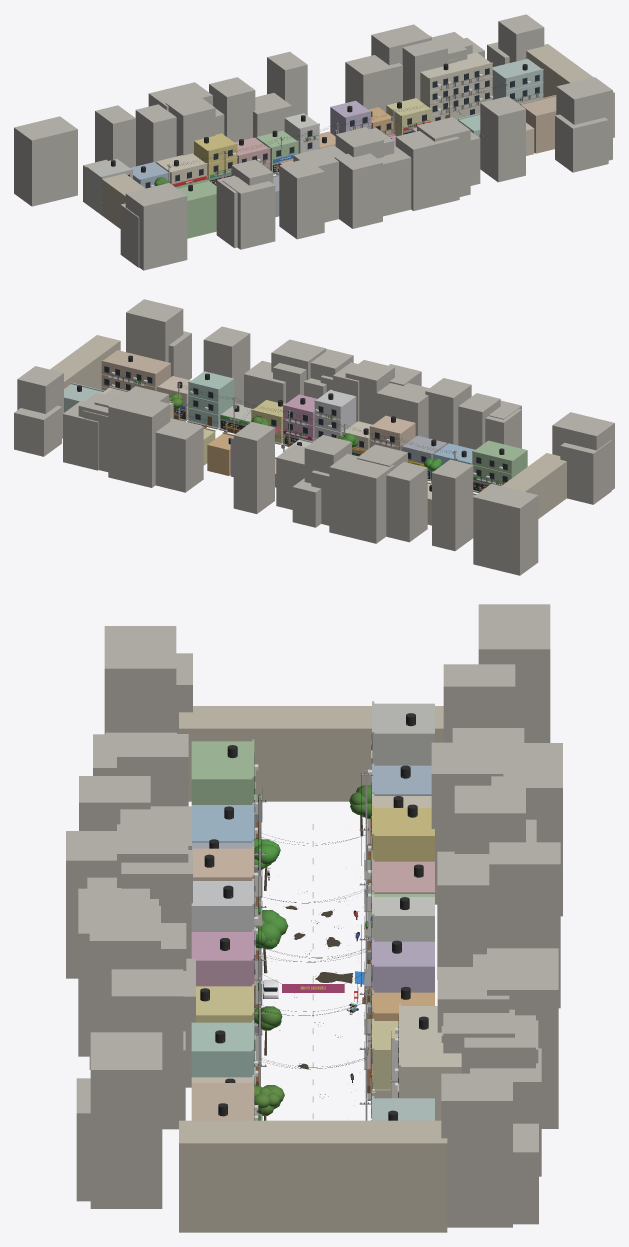
File: street.glb
The picture shows the model from 3 angles, top to bottom: view 1: azimuth 30°, elevation 25°; view 2: azimuth 150°, elevation 25°; view 3: azimuth 270°, elevation 25°; orthographic projection. The views are drawn at different scales.
Visible parts, largest first — view 1: Backdrop, Street_6, Street_1, Street_7, Street_2, Street_3, Street_5, Street_4, Street_0; view 2: Backdrop, Street_5, Street_4, Street_6, Street_7, Street_3, Street_1, Street_2; view 3: Backdrop, Street_4, Street_6, Street_2, Street_1, Street_5, Street_3, Street_7, Street_0.
Part boxes in pixels (x1,y1,x2,y2): Backdrop: (14,14,614,270); Street_6: (420,52,535,155); Street_1: (130,153,222,238); Street_7: (492,58,556,153); Street_2: (194,133,281,217); Street_3: (256,113,319,174); Street_5: (368,72,473,136); Street_4: (319,100,395,148); Street_0: (86,159,132,215); Backdrop: (14,299,614,575); Street_5: (170,379,285,475); Street_4: (228,389,355,487); Street_6: (101,363,233,429); Street_7: (64,350,170,412); Street_3: (283,396,414,456); Street_1: (427,440,527,525); Street_2: (391,423,475,482); Backdrop: (66,604,562,1232); Street_4: (191,879,434,1051); Street_6: (191,1003,461,1120); Street_2: (191,796,434,940); Street_1: (191,732,434,867); Street_5: (196,984,434,1105); Street_3: (192,846,434,989); Street_7: (191,1081,434,1120); Street_0: (368,701,434,782).
Size of the model in its own units: 131 by 17.91 by 55.53.
